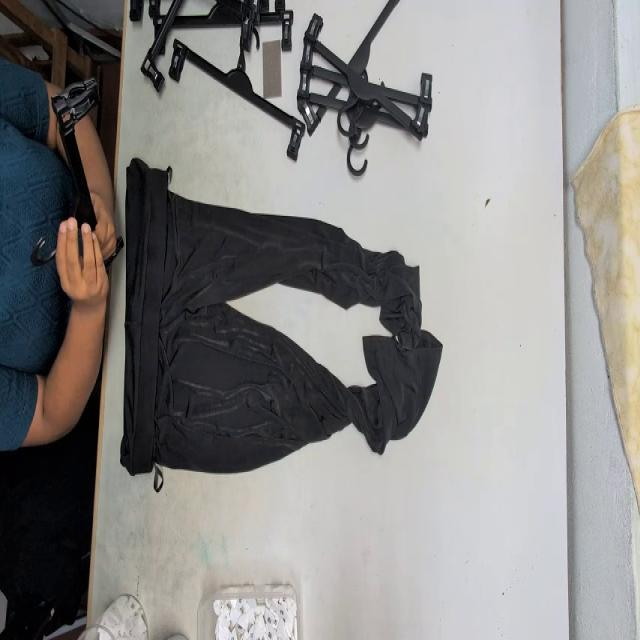new-garment: (121, 159, 441, 489)
